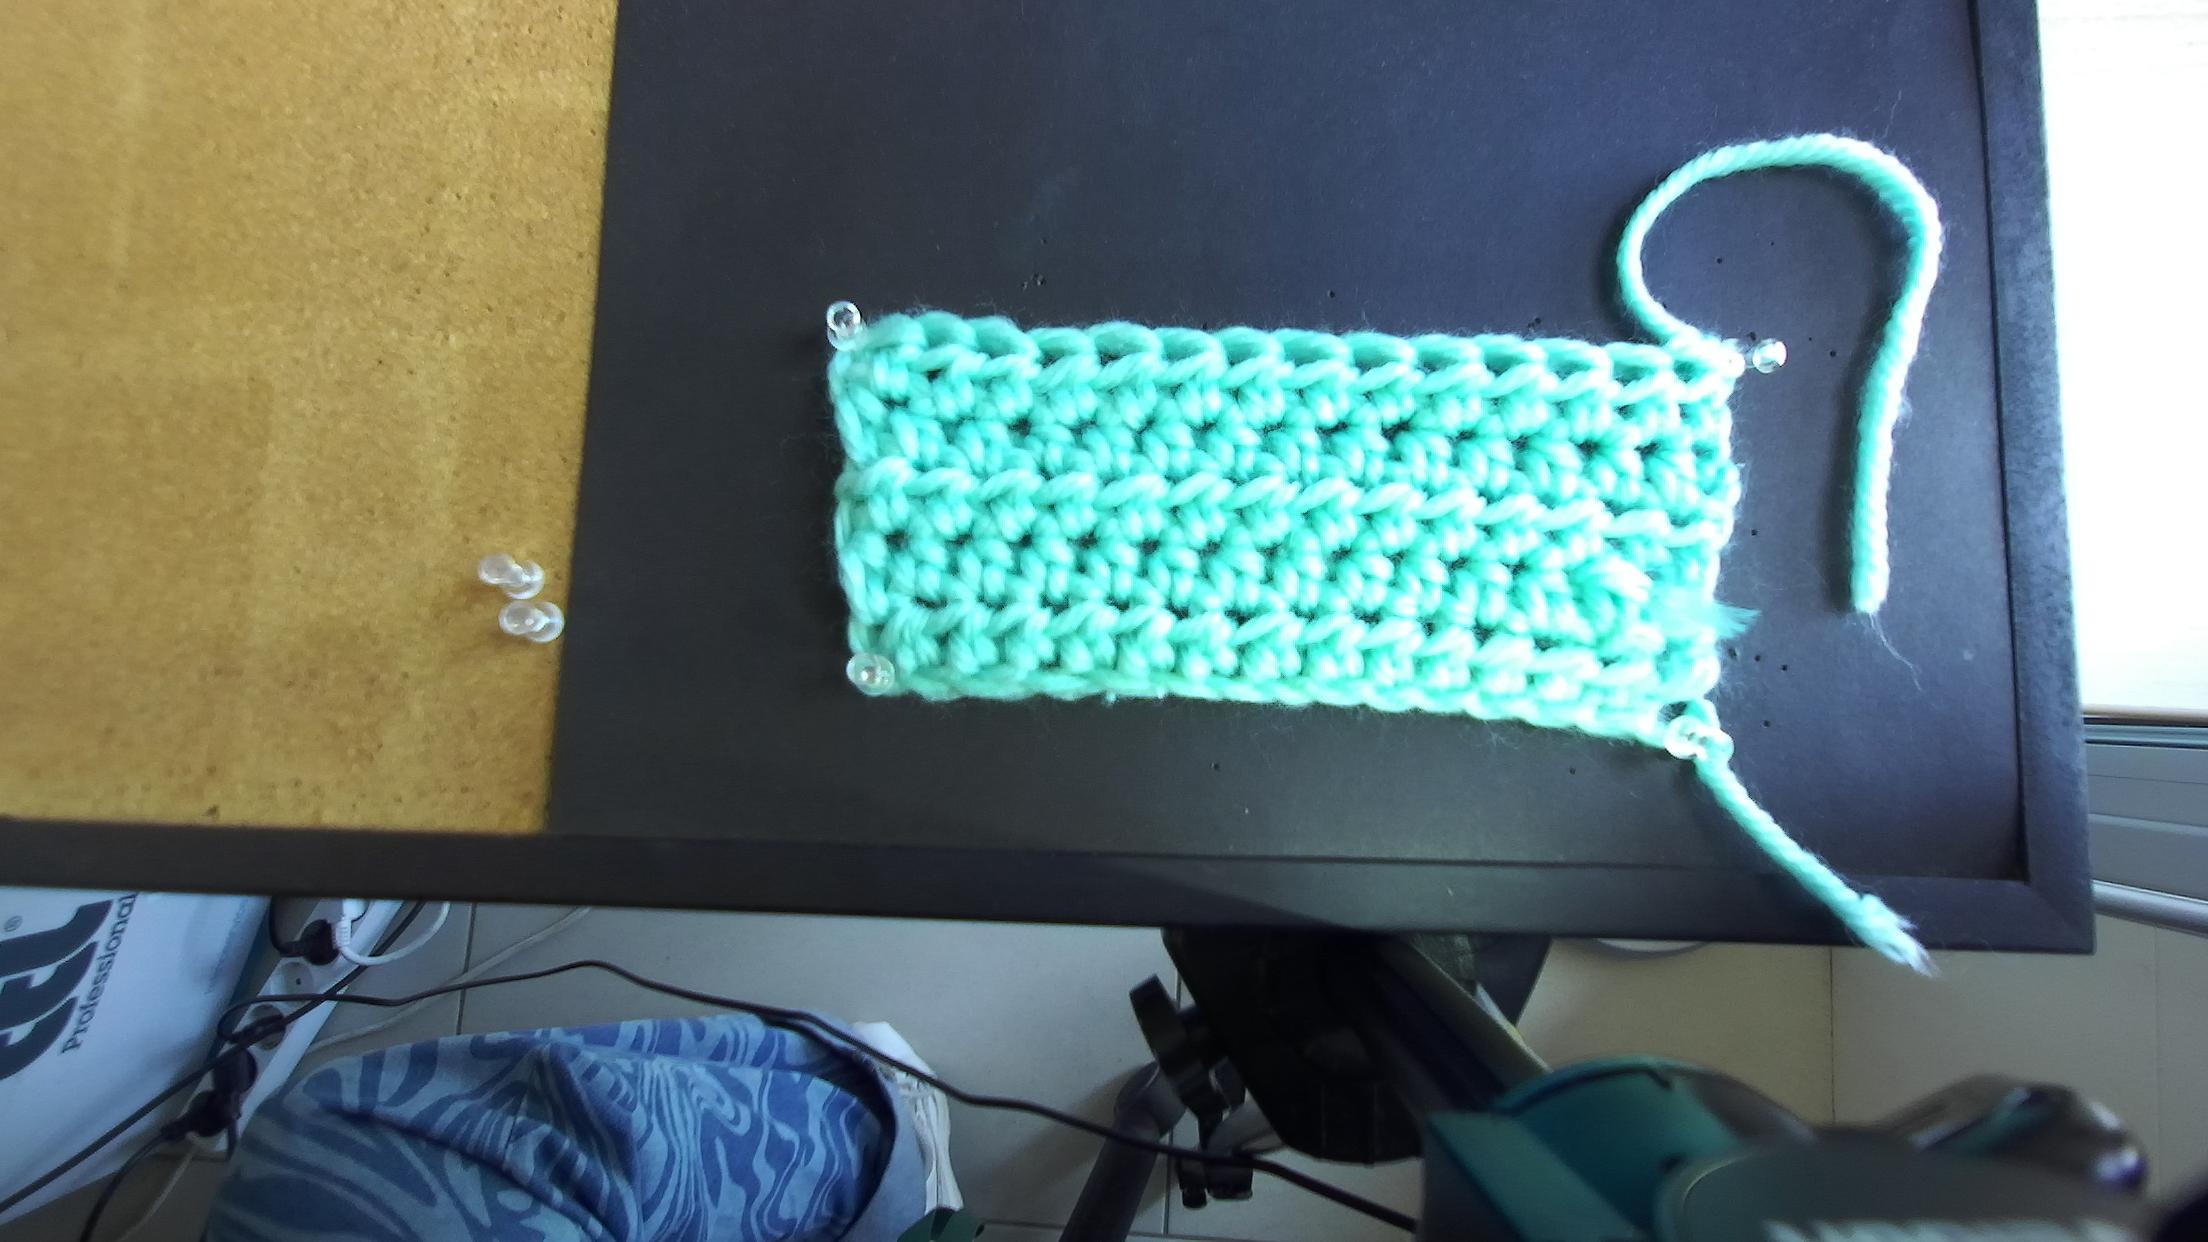hole: (1354, 347, 1401, 378), (971, 331, 1018, 359), (1095, 343, 1143, 369), (1413, 350, 1457, 378), (1283, 346, 1335, 369), (1162, 338, 1197, 369), (1485, 353, 1527, 378), (1612, 359, 1645, 388), (921, 328, 955, 353), (1551, 359, 1592, 381), (1673, 356, 1701, 384), (1034, 346, 1068, 369), (1222, 343, 1253, 365)
swatch: (828, 308, 1750, 760)
